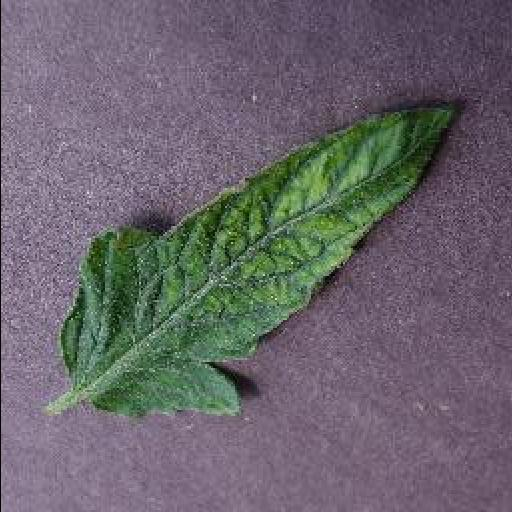disease_tomato: (60, 100, 464, 420)
